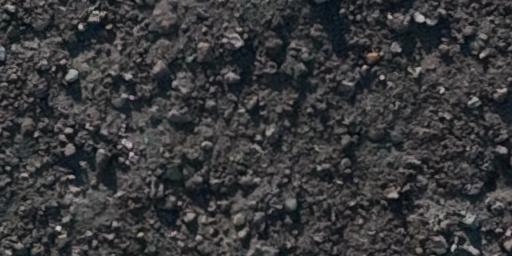skua: (357, 50, 391, 62)
